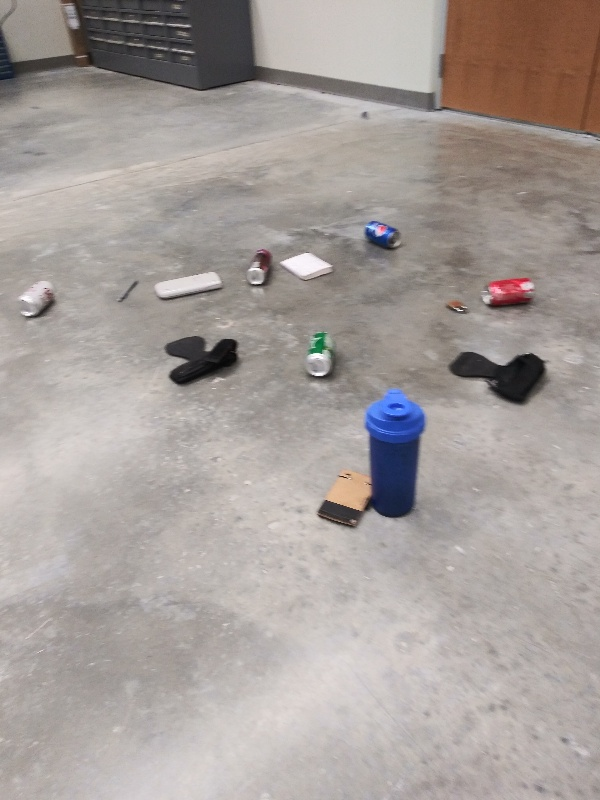can: (477, 276, 543, 307), (14, 278, 59, 320), (359, 216, 406, 252), (305, 327, 337, 378), (242, 248, 272, 287)
